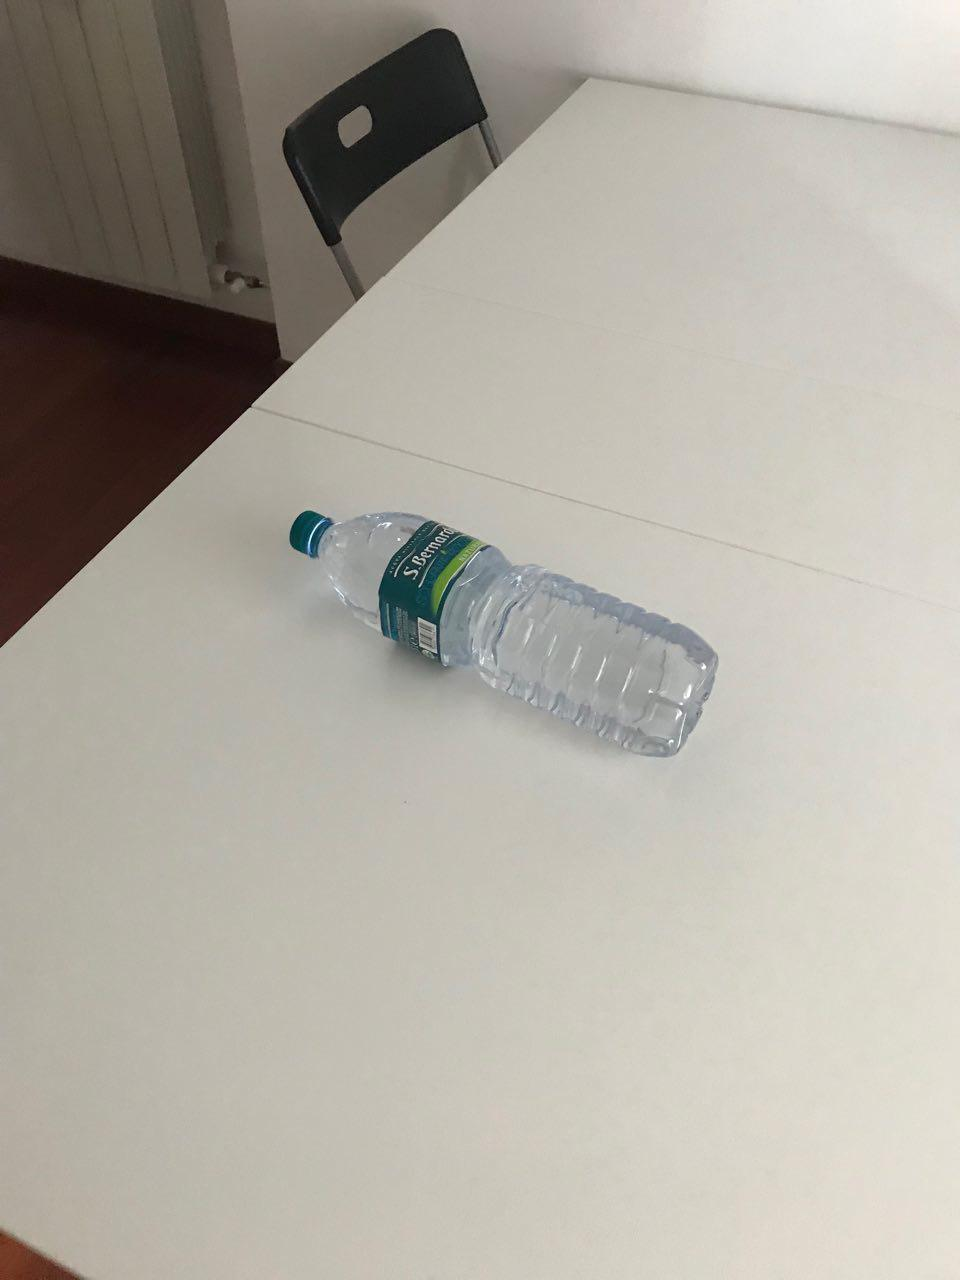san_bernardo: (289, 509, 719, 757)
